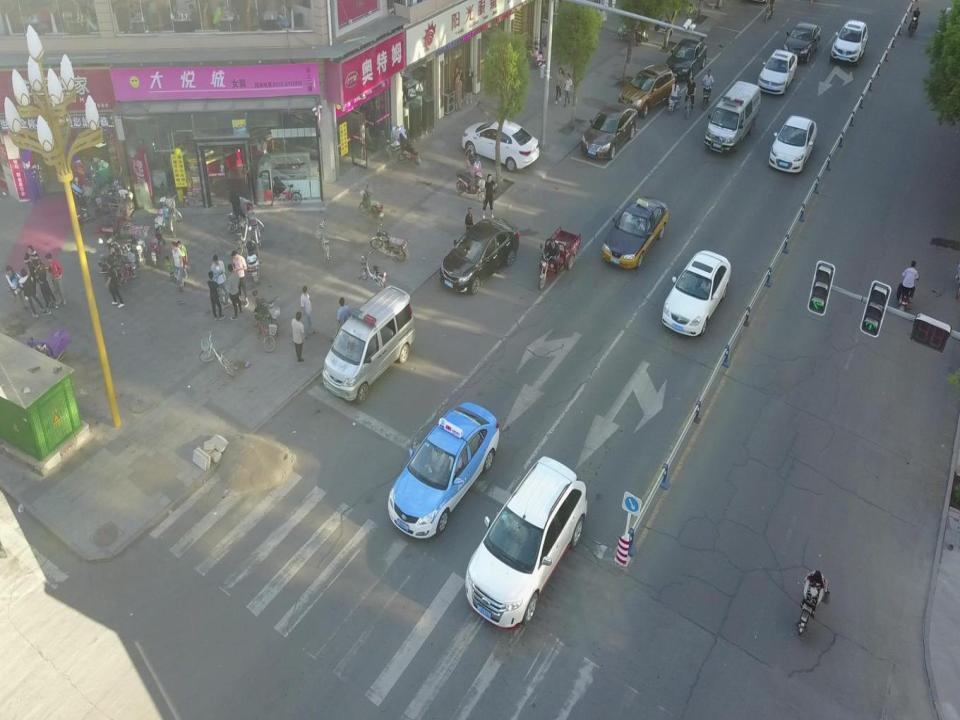car: (467, 454, 588, 628), (388, 403, 499, 538), (662, 247, 731, 338), (439, 219, 520, 294), (602, 195, 669, 270), (462, 120, 539, 172), (580, 101, 637, 160), (618, 63, 676, 119), (769, 115, 818, 173), (755, 49, 798, 95), (665, 37, 708, 81), (831, 20, 867, 66), (782, 21, 821, 62)
van: (323, 282, 415, 401), (704, 80, 760, 153)
